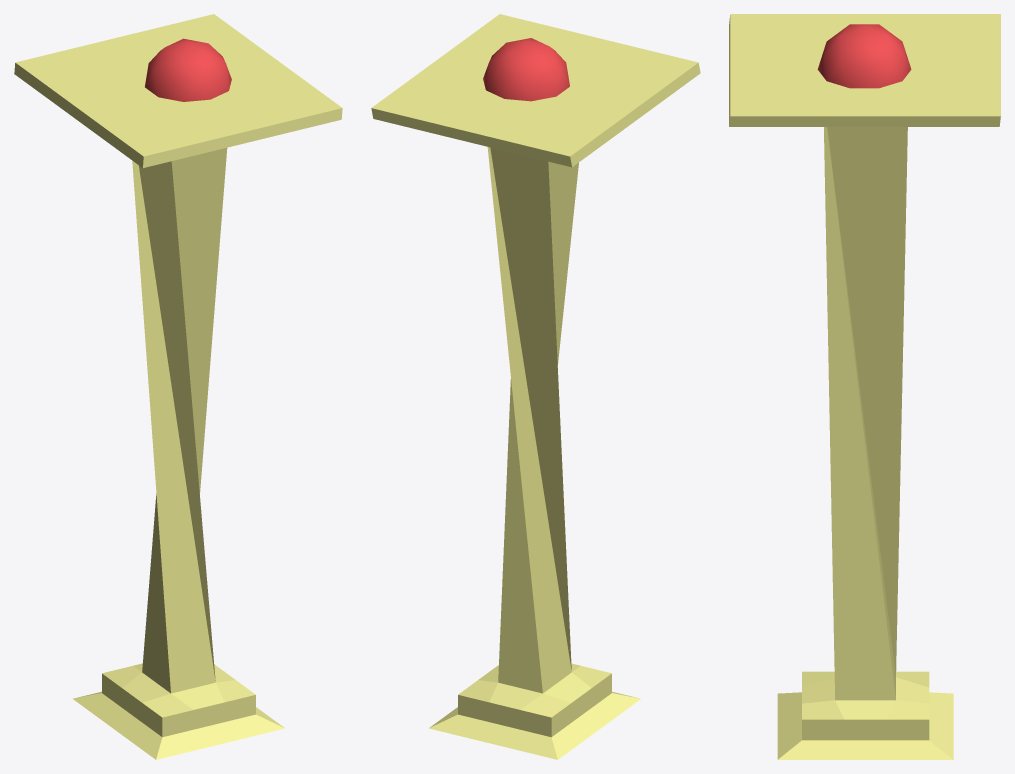
File: buzzer.fbx
The picture shows the model from 3 angles, left to right: view 1: azimuth 30°, elevation 25°; view 2: azimuth 150°, elevation 25°; view 3: azimuth 270°, elevation 25°; orthographic projection. The views are drawn at different scales.
Visible parts, largest first — view 1: stand; view 2: stand; view 3: stand.
Part boxes in pixels (<box>): stand: <box>14,14,342,759</box>; stand: <box>371,14,700,759</box>; stand: <box>729,14,1000,759</box>.
Bounding box in the file's own units: 391 × 1248 × 436.
